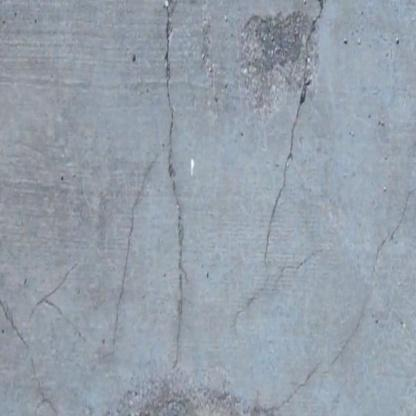Cracks: (236, 172, 416, 416), (228, 0, 333, 341), (108, 0, 197, 381), (0, 252, 93, 416)
